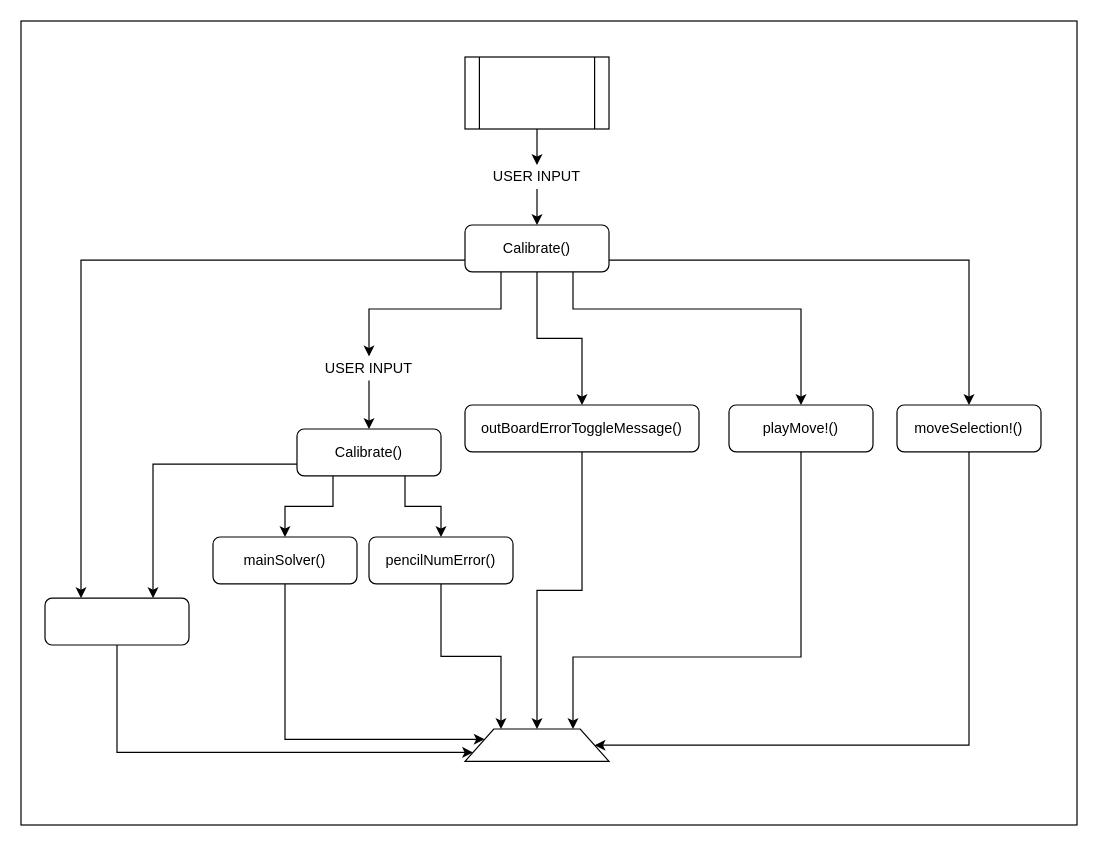
Some shapes in this 1098 by 846 pixel diagram are drawn without their labels. The centre of each missing label's shape, as x and y in pixels:
"errorMessage()" belongs at (x=116, y=621).
"getInput()" belongs at (x=536, y=92).
"return" belongs at (x=536, y=744).
